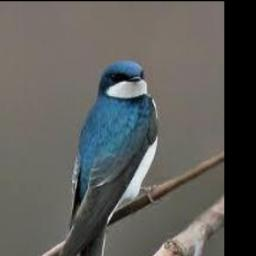Swallow: (53, 60, 159, 256)
